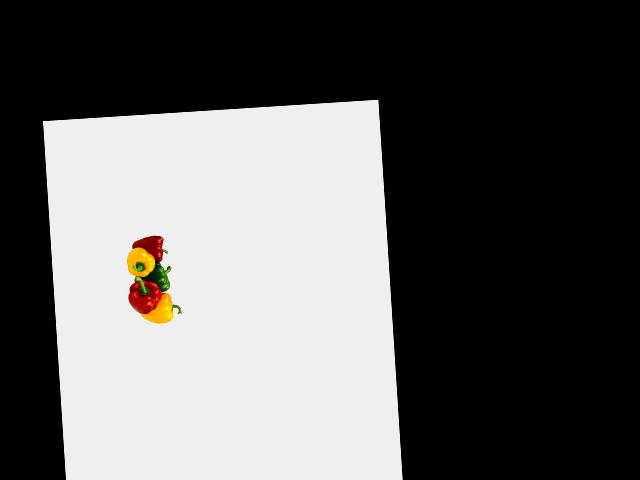bell_pepper: (136, 233, 169, 263)
